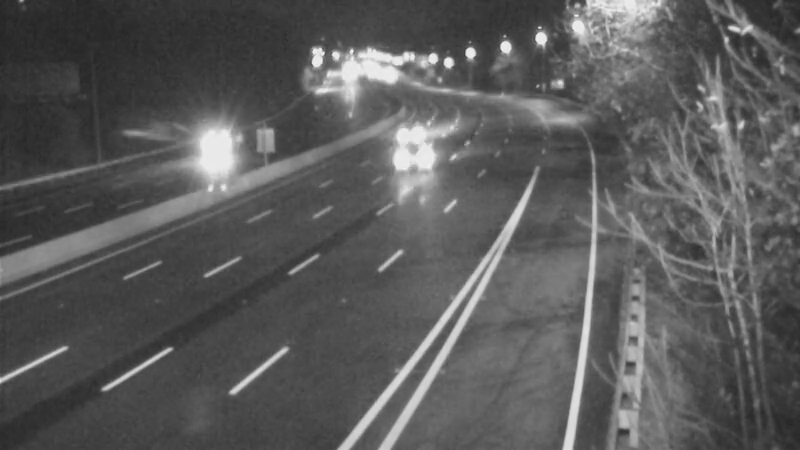vehicle: (377, 118, 457, 198), (369, 53, 419, 103), (385, 111, 435, 161), (189, 123, 239, 173)
